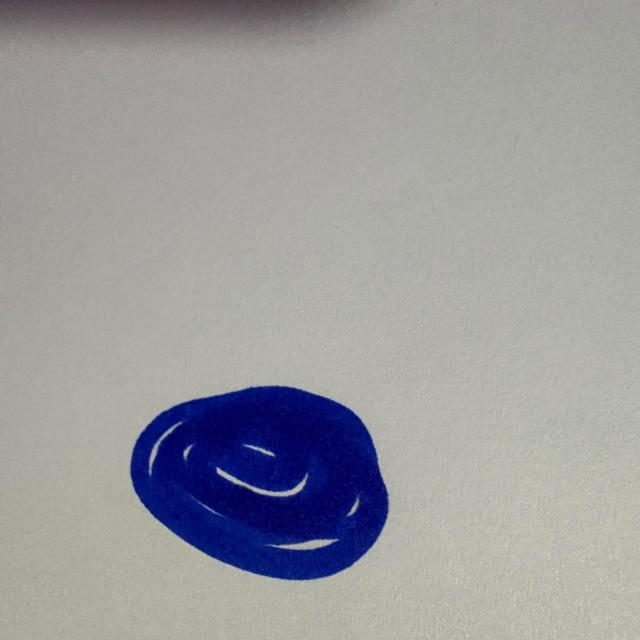Circle: (127, 383, 400, 585)
